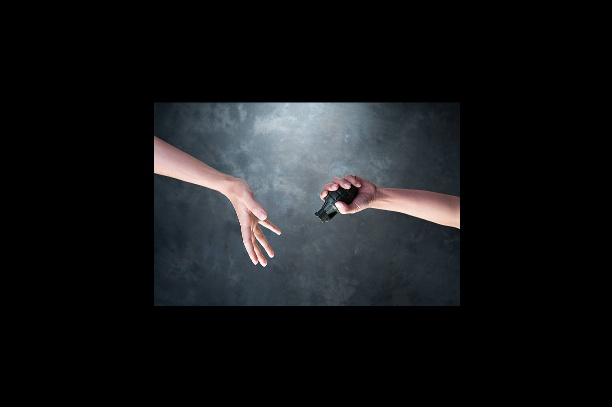e1: (314, 178, 366, 224)
